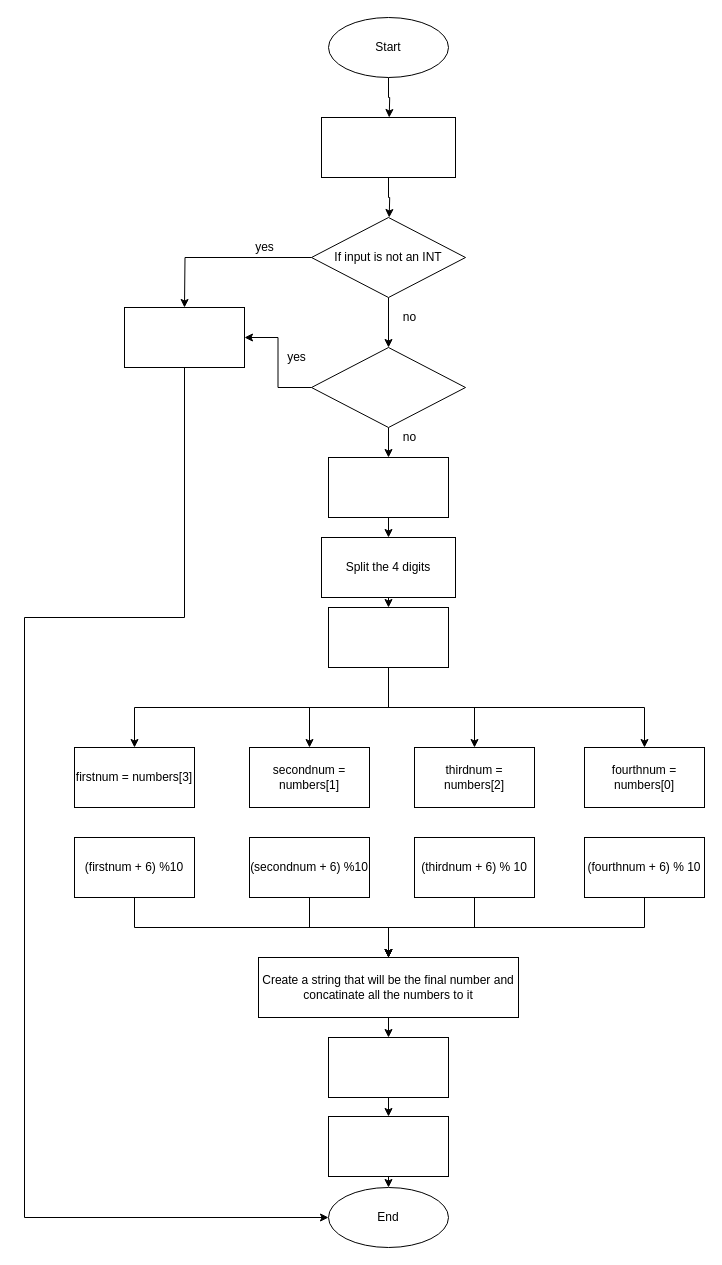
The diagram is 722 pixels wide and 1265 high, and some of its shapes have lost their labels. Here are the shapes that lost their labels. From the top down, the box of each, then its label:
(320, 116, 456, 178): input = input 4 digit num
(124, 306, 244, 368): print "Cannot find a valid 4 digit number"
(310, 346, 466, 428): If input is more than 4 digits
(328, 456, 448, 518): print the original number
(328, 606, 448, 668): add the 4 digits to a list of int[] (numbers)
(328, 1036, 448, 1098): convert the string into an int
(328, 1116, 448, 1176): print the final encrpyted number
